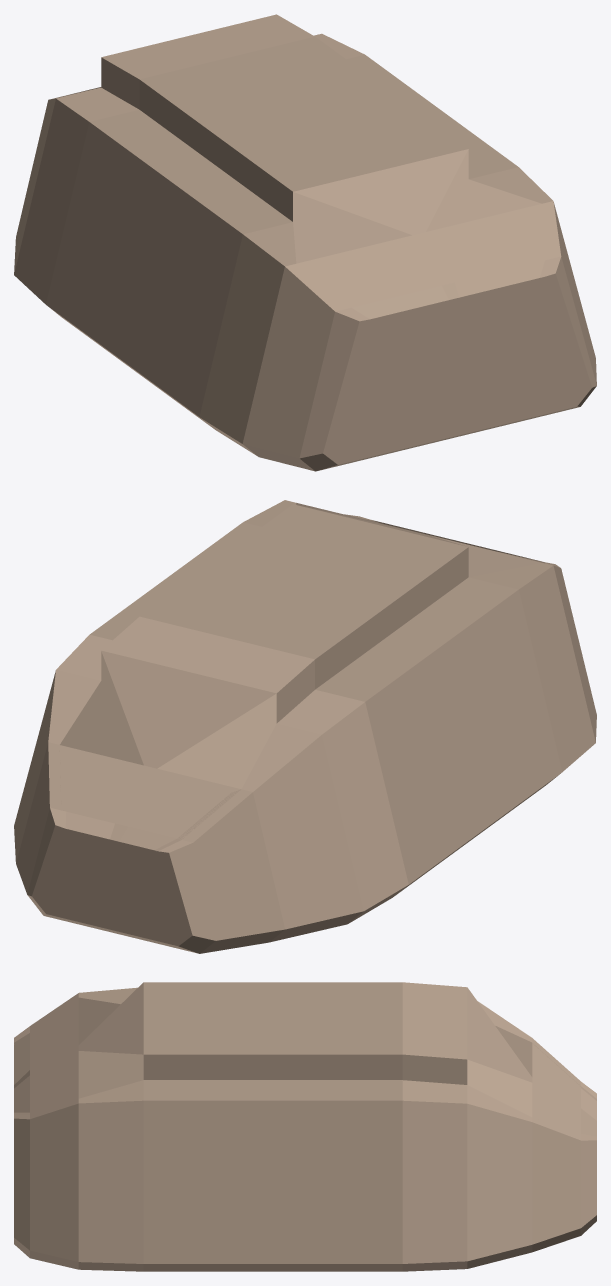
File: orrin_medium_a.glb
3 renders of one model, top to bottom at view 1: azimuth 30°, elevation 25°; view 2: azimuth 150°, elevation 25°; view 3: azimuth 270°, elevation 25°, orthographic. The views are drawn at different scales.
Visible parts, largest first — view 1: orrin_medium_a; view 2: orrin_medium_a; view 3: orrin_medium_a.
Part boxes in pixels (x1,y1,x2,y2): orrin_medium_a: (14,14,596,471); orrin_medium_a: (14,500,596,953); orrin_medium_a: (14,982,596,1271).
Bounding box in the file's own units: 3.7 × 2.14 × 6.1.
